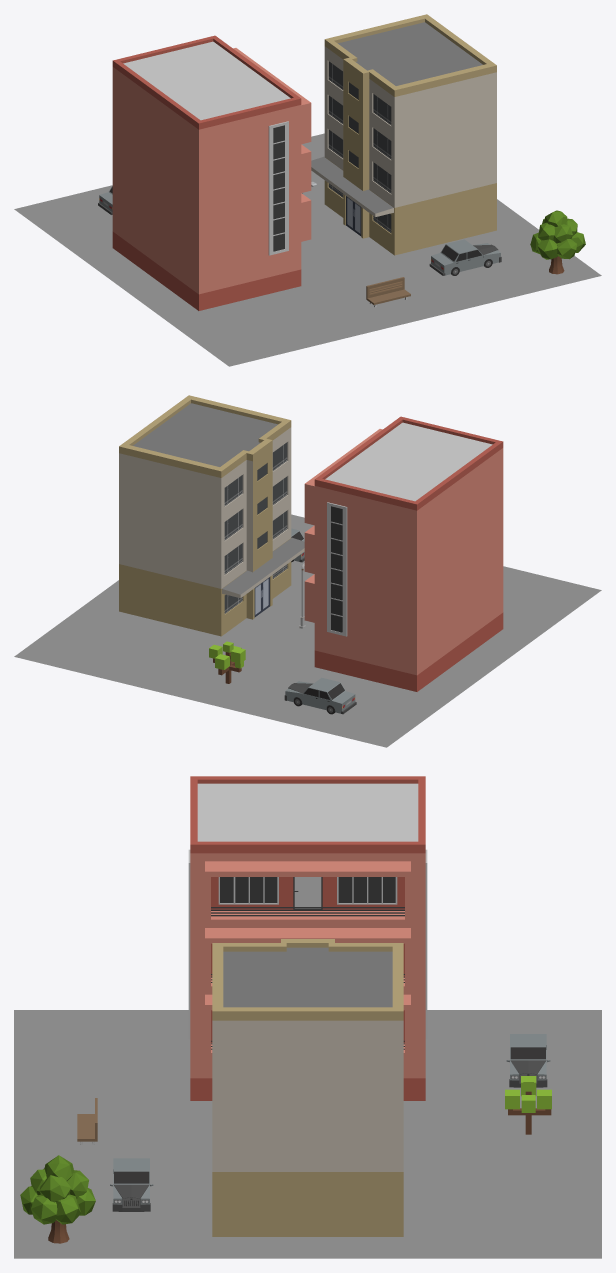
The model's file is remix-residential-towers.glb.
3 renders of one model, top to bottom at view 1: azimuth 30°, elevation 25°; view 2: azimuth 150°, elevation 25°; view 3: azimuth 270°, elevation 25°, orthographic. The views are drawn at different scales.
Visible parts, largest first — view 1: Building_Residential_color01_Cube.013, Building Sky_small_color01_Cube.028, Road Concrete Tile_Plane.010, Natures_Big Tree_Mesh.008, Vehicle_Car_Cube.050, Props_Bench_2_Cube.022; view 2: Building_Residential_color01_Cube.013, Building Sky_small_color01_Cube.028, Road Concrete Tile_Plane.010, Vehicle_Car_Cube.050, Natures_Cube Tree_Cube.017; view 3: Road Concrete Tile_Plane.010, Building Sky_small_color01_Cube.028, Building_Residential_color01_Cube.013, Natures_Big Tree_Mesh.008, Vehicle_Car_Cube.050 (×2), Natures_Cube Tree_Cube.017, Props_Bench_2_Cube.022.
Part boxes in pixels (bbox=[...]): Building_Residential_color01_Cube.013: bbox=[112, 35, 311, 310]; Building Sky_small_color01_Cube.028: bbox=[311, 14, 496, 255]; Road Concrete Tile_Plane.010: bbox=[14, 133, 601, 366]; Natures_Big Tree_Mesh.008: bbox=[530, 210, 585, 274]; Vehicle_Car_Cube.050: bbox=[429, 239, 501, 275]; Props_Bench_2_Cube.022: bbox=[366, 277, 410, 307]; Building_Residential_color01_Cube.013: bbox=[304, 416, 503, 691]; Building Sky_small_color01_Cube.028: bbox=[119, 395, 304, 636]; Road Concrete Tile_Plane.010: bbox=[14, 514, 601, 747]; Vehicle_Car_Cube.050: bbox=[284, 677, 356, 714]; Natures_Cube Tree_Cube.017: bbox=[209, 641, 245, 683]; Road Concrete Tile_Plane.010: bbox=[14, 1010, 601, 1258]; Building Sky_small_color01_Cube.028: bbox=[212, 939, 403, 1236]; Building_Residential_color01_Cube.013: bbox=[188, 776, 427, 1100]; Natures_Big Tree_Mesh.008: bbox=[20, 1155, 95, 1243]; Vehicle_Car_Cube.050 (×2): bbox=[110, 1034, 550, 1211]; Natures_Cube Tree_Cube.017: bbox=[505, 1076, 551, 1134]; Props_Bench_2_Cube.022: bbox=[77, 1098, 97, 1144].
Size of the model in its own units: 40 by 19.24 by 40.
6 materials, 6 textured.
